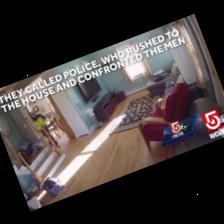person: (30, 111, 59, 147)
